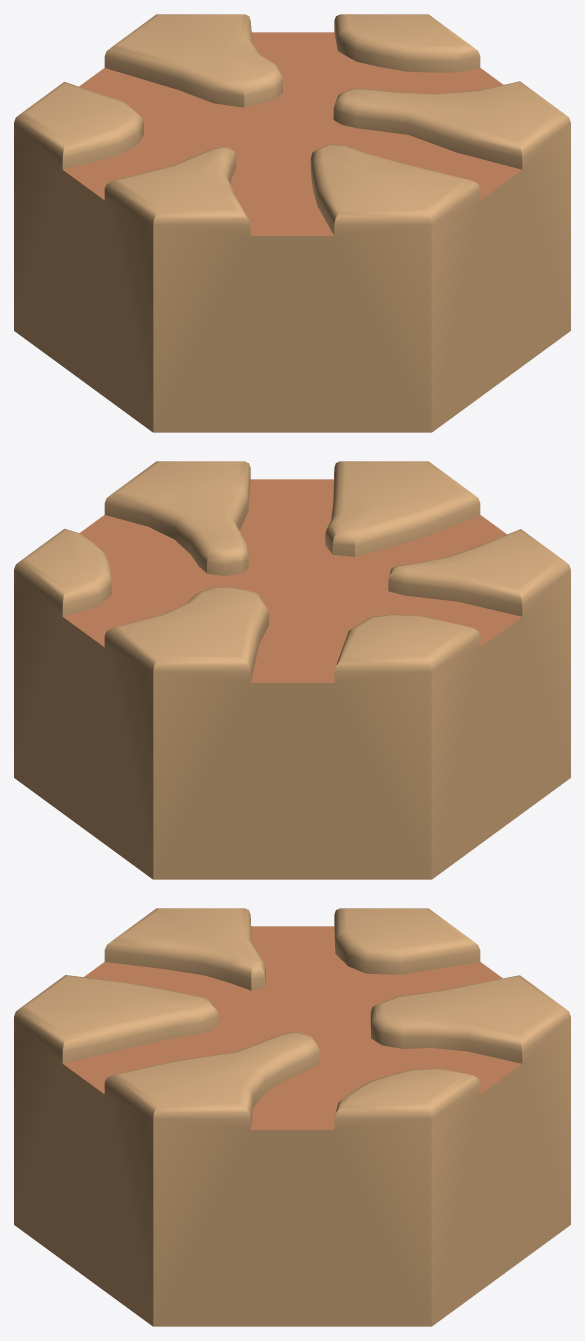
The model's file is hex_sand_roadM.glb.
3 renders of one model, top to bottom at view 1: azimuth 30°, elevation 25°; view 2: azimuth 150°, elevation 25°; view 3: azimuth 270°, elevation 25°, orthographic.
Visible parts, largest first — view 1: hex_sand_roadM; view 2: hex_sand_roadM; view 3: hex_sand_roadM.
Boxes of the visible parts, box(x1,y1,x2,y2) form: hex_sand_roadM: box(14, 14, 570, 432); hex_sand_roadM: box(14, 461, 570, 879); hex_sand_roadM: box(14, 908, 570, 1326).
Bounding box in the file's own units: 3.82 × 1.91 × 4.41.
